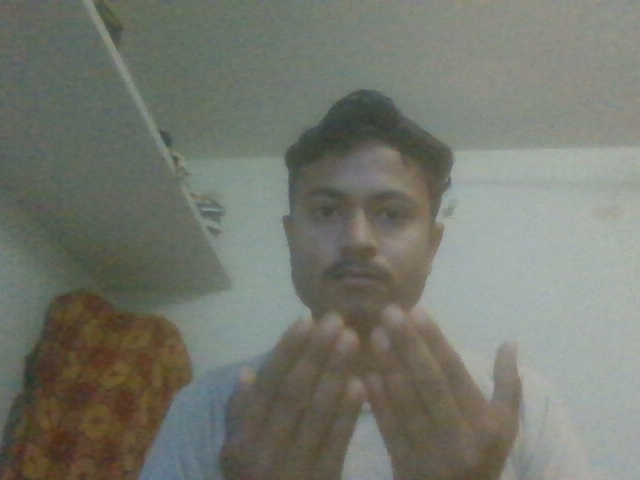Thanks: (207, 293, 535, 475)
